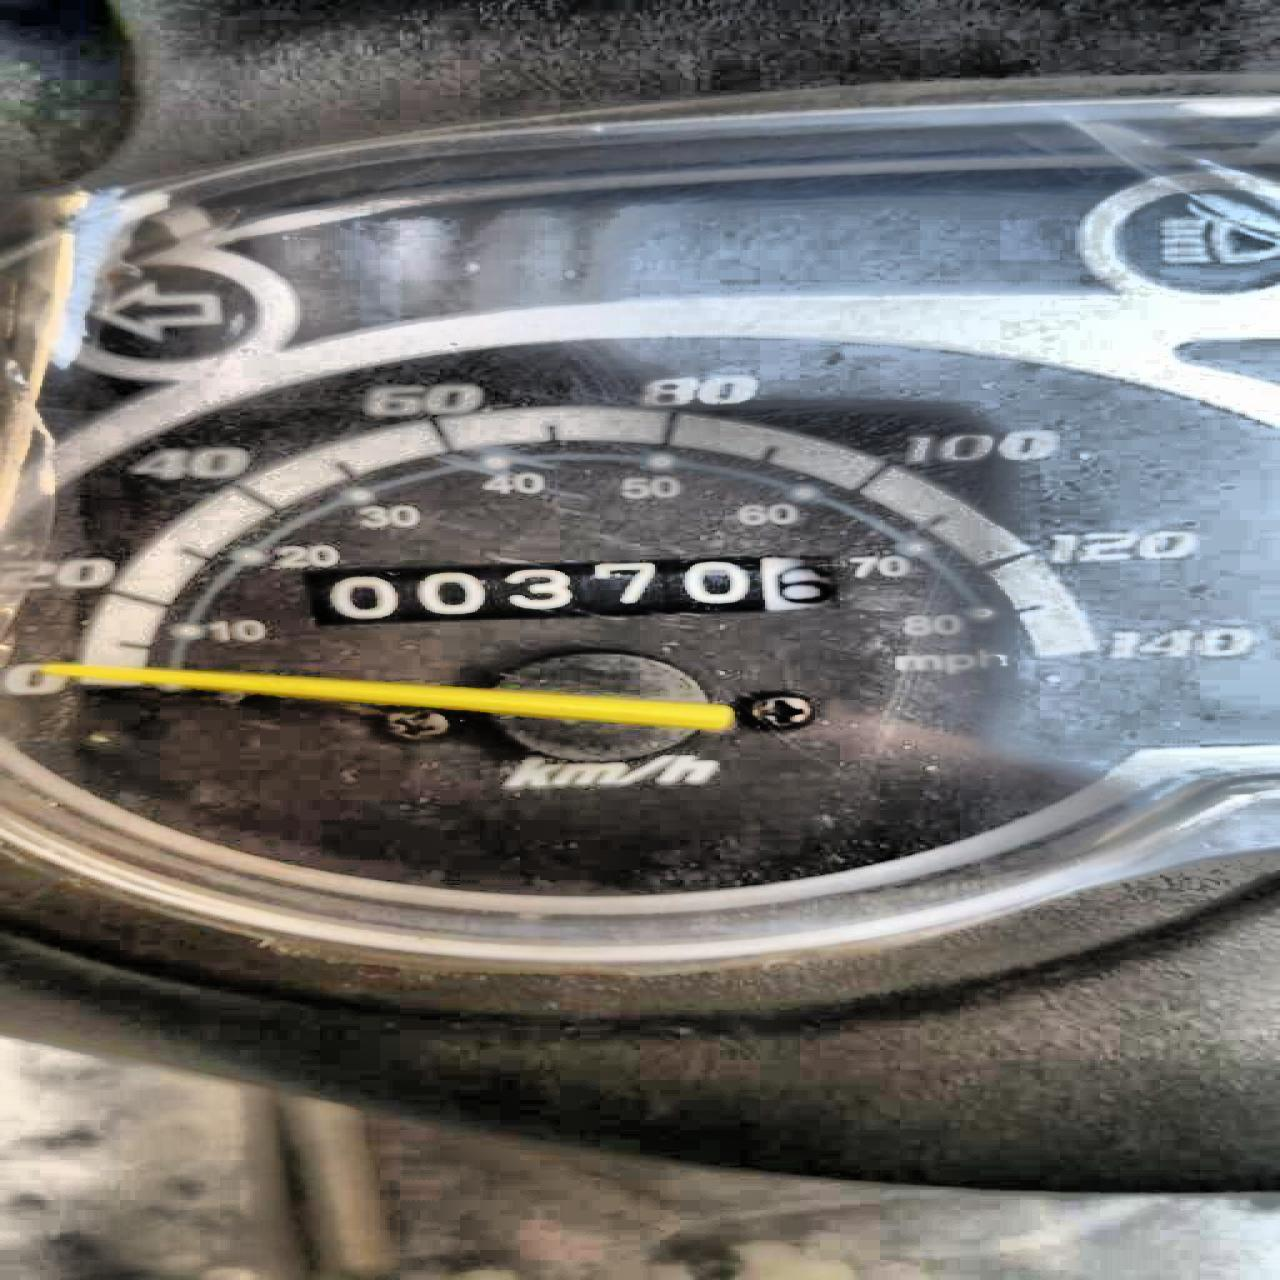0: (322, 572, 397, 620), (413, 568, 485, 615), (678, 558, 748, 604), (305, 549, 340, 566)
2: (292, 550, 309, 566)
3: (499, 566, 572, 608)
6: (765, 561, 835, 605)
7: (585, 559, 655, 605)
odometer: (292, 550, 850, 632)
